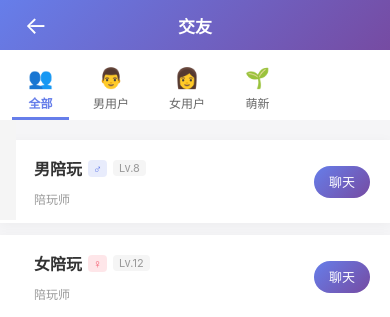
Test case: ChatUsers 交友列表 › 性别 Tab 使用后端 sex 字段过滤
The width and height of the screenshot is (390, 317).
Click the element with class "tab-item" showing "👩 女用户" at point(187, 88), box [169,66,205,111]
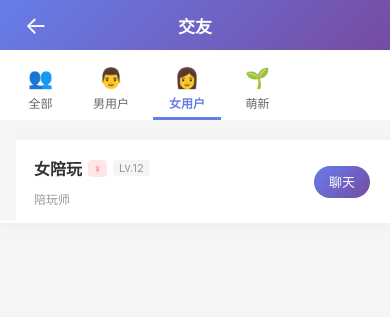
Expected: the element with class "user-item" shows "女陪玩", [34,159,82,179]
Expected: the number of elements with class "user-item" is 1, [0,140,389,223]
